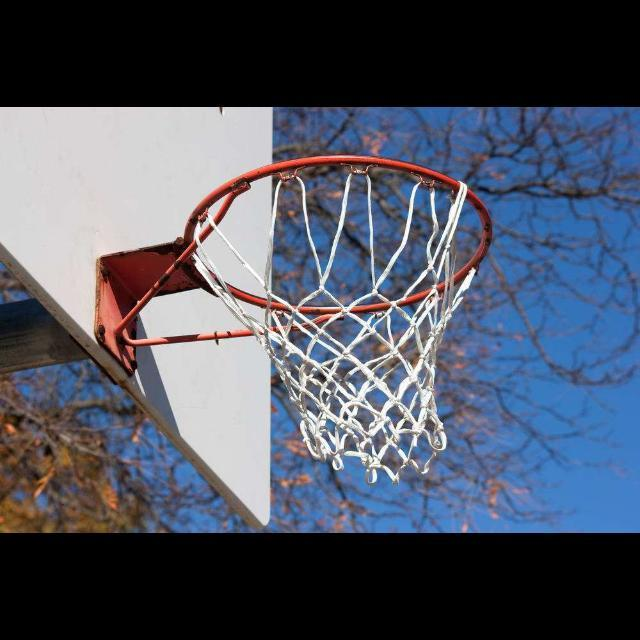rim: (185, 155, 493, 485)
